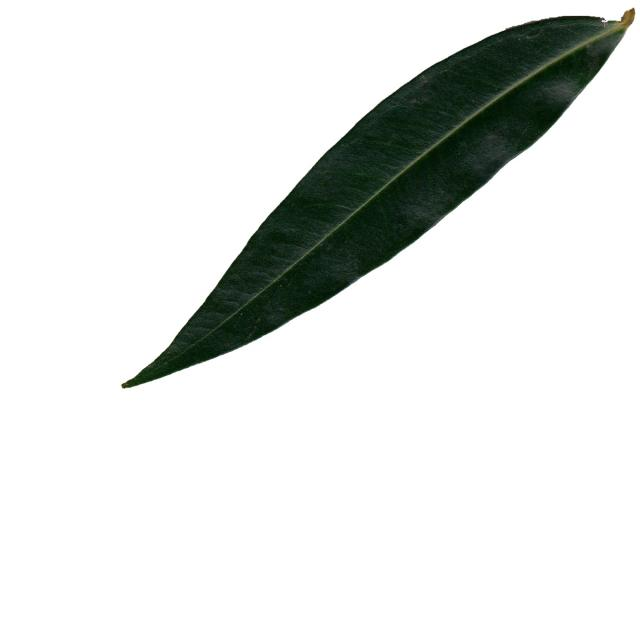Medicinal-Rose Apple: (122, 2, 636, 390)
